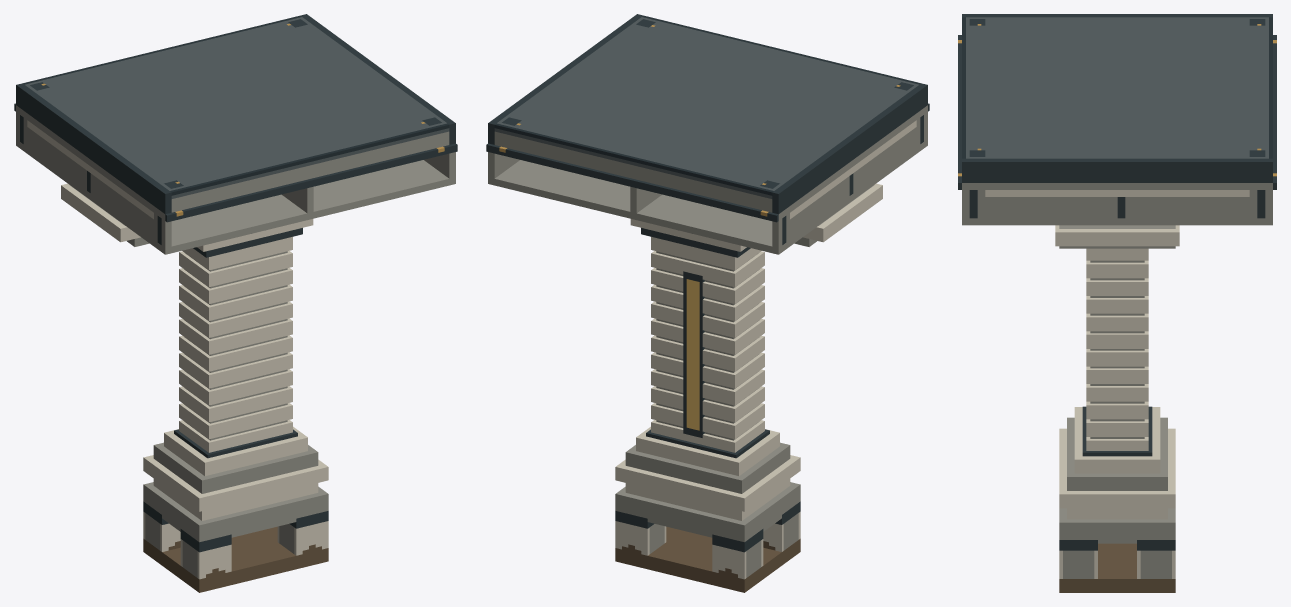
3 views of the same model, side by side, from view 1: azimuth 30°, elevation 25°; view 2: azimuth 150°, elevation 25°; view 3: azimuth 270°, elevation 25° (orthographic). The views are drawn at different scales.
Visible parts, largest first — view 1: 隔离共享高桥桥板/接缝, 隔离共享高桥墩/墩帽 (×2), 隔离共享高桥梁体, 隔离共享高桥分段terrain基础 (×4), 显式五高度带试验地形（辅助，非原采样）; view 2: 隔离共享高桥桥板/接缝, 隔离共享高桥墩/墩帽 (×2), 隔离共享高桥梁体, 隔离共享高桥分段terrain基础 (×4), 显式五高度带试验地形（辅助，非原采样）; view 3: 隔离共享高桥桥板/接缝, 隔离共享高桥墩/墩帽 (×2), 隔离共享高桥梁体, 隔离共享高桥分段terrain基础 (×3), 显式五高度带试验地形（辅助，非原采样）.
Part boxes in pixels (box(x1,y1,x2,y2)): 隔离共享高桥桥板/接缝: box(16, 14, 455, 214); 隔离共享高桥墩/墩帽 (×2): box(61, 183, 328, 511); 隔离共享高桥梁体: box(14, 103, 457, 254); 隔离共享高桥分段terrain基础 (×4): box(143, 479, 328, 579); 显式五高度带试验地形（辅助，非原采样）: box(143, 526, 328, 592); 隔离共享高桥桥板/接缝: box(488, 14, 927, 214); 隔离共享高桥墩/墩帽 (×2): box(615, 183, 882, 511); 隔离共享高桥梁体: box(486, 103, 929, 254); 隔离共享高桥分段terrain基础 (×4): box(615, 479, 800, 579); 显式五高度带试验地形（辅助，非原采样）: box(615, 526, 800, 592); 隔离共享高桥桥板/接缝: box(962, 14, 1272, 182); 隔离共享高桥墩/墩帽 (×2): box(1055, 225, 1179, 508); 隔离共享高桥梁体: box(958, 35, 1276, 225); 隔离共享高桥分段terrain基础 (×3): box(1059, 508, 1175, 578); 显式五高度带试验地形（辅助，非原采样）: box(1059, 543, 1175, 592).
Size of the model in its own units: 9 by 13.4 by 8.2.
Materials: 9 (9 with a texture image).
